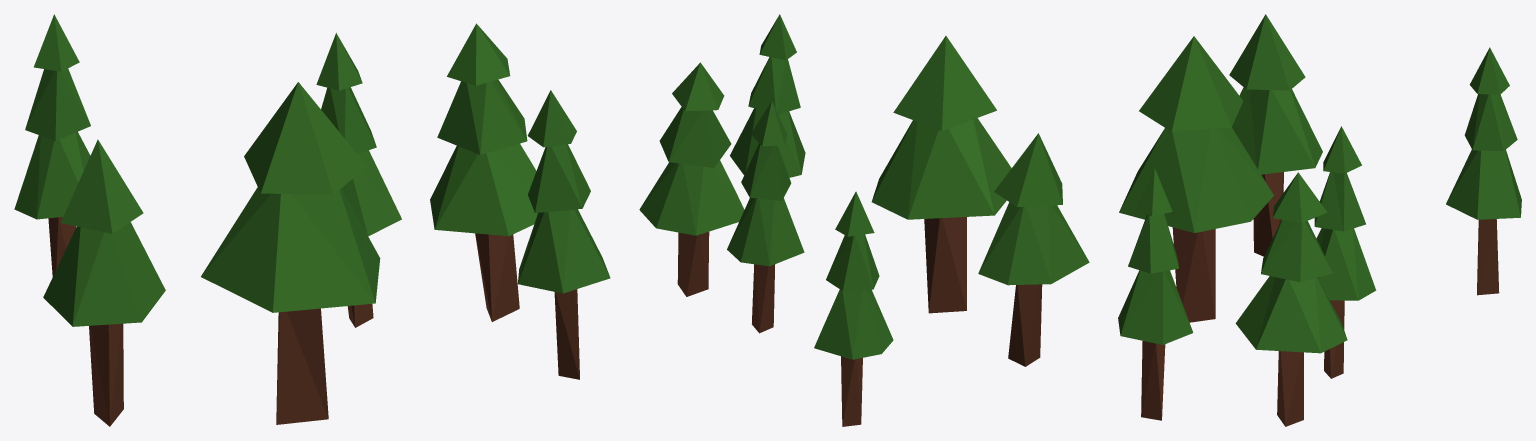
File: Forest7_x1.dae
3 renders of one model, left to right at view 1: azimuth 30°, elevation 25°; view 2: azimuth 150°, elevation 25°; view 3: azimuth 270°, elevation 25°, orthographic. The views are drawn at different scales.
Parts seen in each view (by area): view 1: Cylinder_026; view 2: Cylinder_026; view 3: Cylinder_026.
Boxes of the visible parts, x1,y1,x2,y2 form: Cylinder_026: (14, 14, 610, 426); Cylinder_026: (639, 14, 1089, 426); Cylinder_026: (1118, 14, 1521, 426).
Bounding box in the file's own units: 1.51 × 1.25 × 0.9619.
